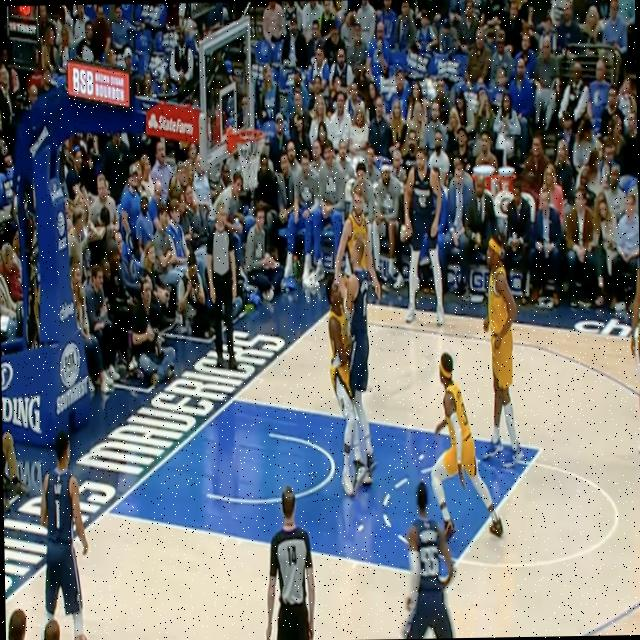Foul: (318, 250, 379, 497)
